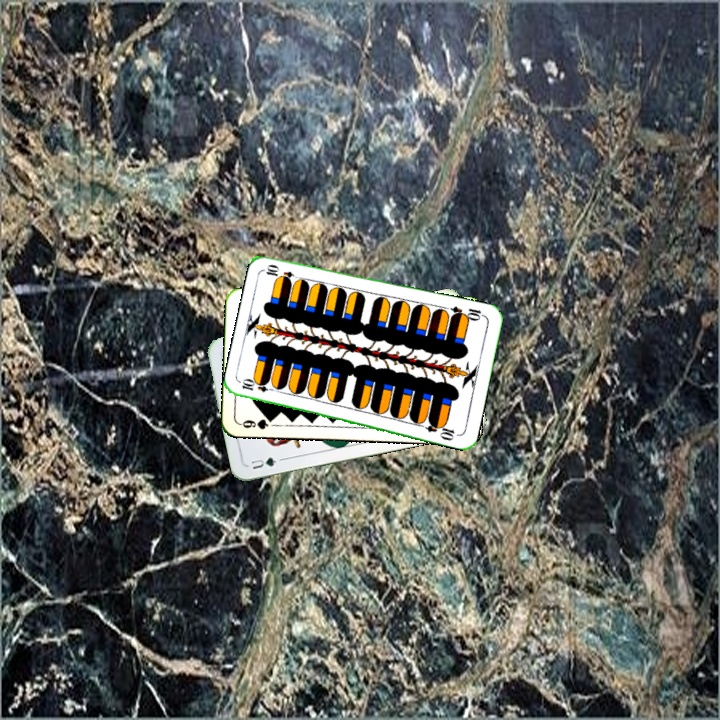E10: (447, 302, 487, 323), (237, 377, 278, 395)
G9: (236, 413, 277, 432)
GU: (247, 453, 285, 472)
